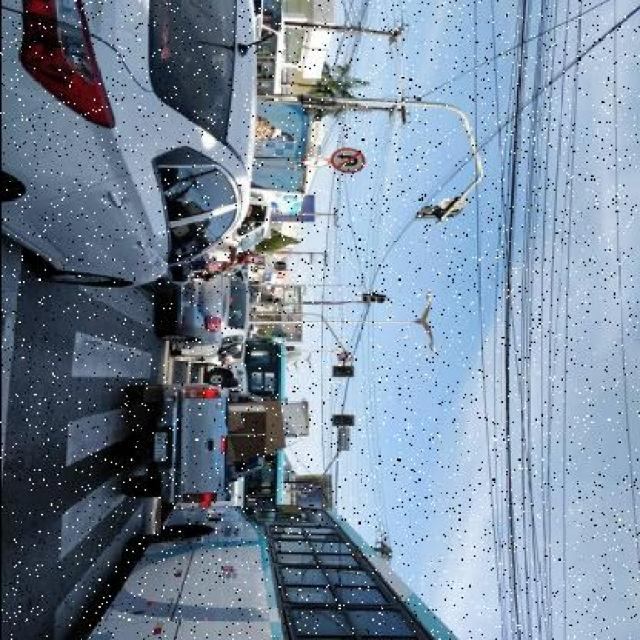traffic-light: (324, 409, 366, 442), (329, 356, 367, 390), (354, 286, 395, 316)
